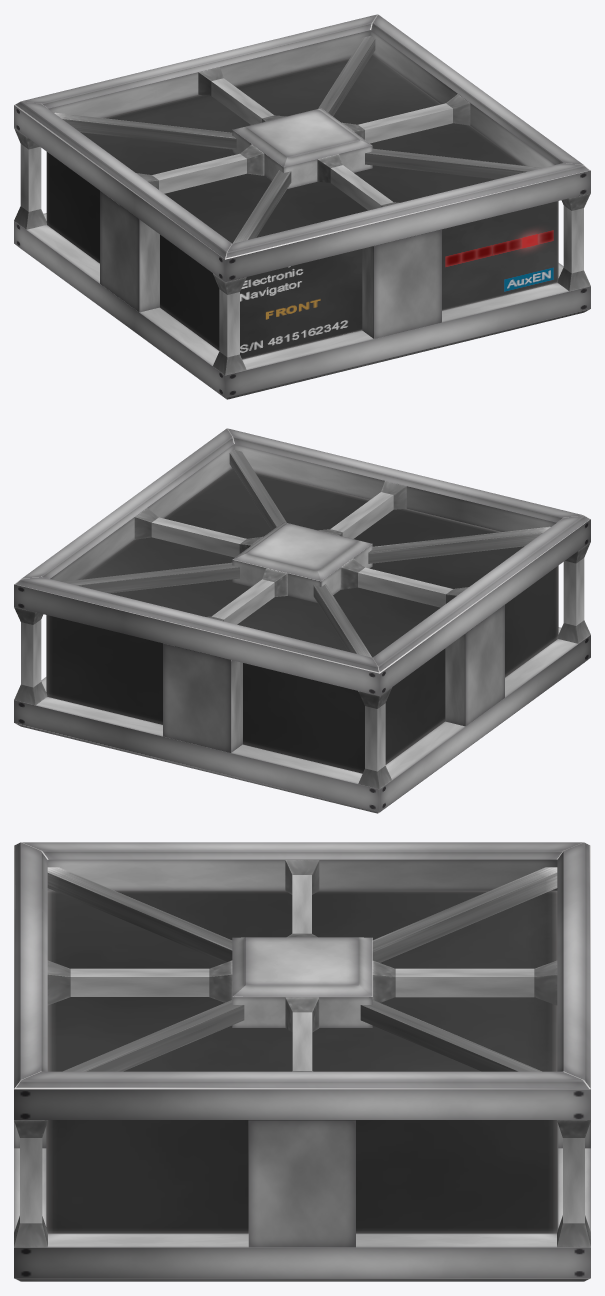
The model's file is AuxEN.FBX.
3 views of the same model, one above another, from view 1: azimuth 30°, elevation 25°; view 2: azimuth 150°, elevation 25°; view 3: azimuth 270°, elevation 25° (orthographic). The views are drawn at different scales.
Parts seen in each view (by area): view 1: ProbeCore, Frame001, Frame002, SideHardpoint002, TopHardpoint001, Bracing017, SideHardpoint001, Bracing018, Pilar008, Pilar006, Pilar002, Pilar004 (+3 smaller); view 2: ProbeCore, Frame001, Frame002, SideHardpoint004, TopHardpoint001, Bracing018, SideHardpoint001, Bracing017, Pilar008, Pilar006, Pilar001, Pilar003 (+3 smaller); view 3: ProbeCore, Frame001, Frame002, SideHardpoint003, TopHardpoint001, Bracing017, Bracing018, Pilar005, Pilar007, Pilar004, Pilar003, Pilar006 (+1 smaller).
Part boxes in pixels (x1,y1,x2,y2): ProbeCore: (46,54,558,359); Frame001: (14,14,590,282); Frame002: (14,213,590,399); SideHardpoint002: (362,229,441,338); TopHardpoint001: (232,108,372,188); Bracing017: (54,112,541,179); SideHardpoint001: (100,191,159,312); Bracing018: (233,35,375,243); Pilar008: (341,94,470,143); Pilar006: (136,144,264,193); Pilar002: (213,273,246,375); Pilar004: (557,193,590,291); ProbeCore: (46,468,558,773); Frame001: (14,428,590,696); Frame002: (14,627,590,813); SideHardpoint004: (163,643,242,752); TopHardpoint001: (232,522,372,602); Bracing018: (63,526,550,593); SideHardpoint001: (445,605,504,726); Bracing017: (229,449,372,657); Pilar008: (134,508,263,557); Pilar006: (340,558,468,607); Pilar001: (358,687,391,789); Pilar003: (14,607,47,705); ProbeCore: (46,890,558,1233); Frame001: (14,842,590,1119); Frame002: (14,1148,590,1281); SideHardpoint003: (248,1120,355,1247); TopHardpoint001: (232,937,372,1027); Bracing017: (63,867,557,1071); Bracing018: (47,867,541,1071); Pilar005: (372,960,557,1005); Pilar007: (47,960,232,1005); Pilar004: (14,1120,47,1247); Pilar003: (557,1120,590,1247); Pilar006: (285,860,319,937).
Size of the model in its own units: 0.846 by 0.3261 by 0.8462.
